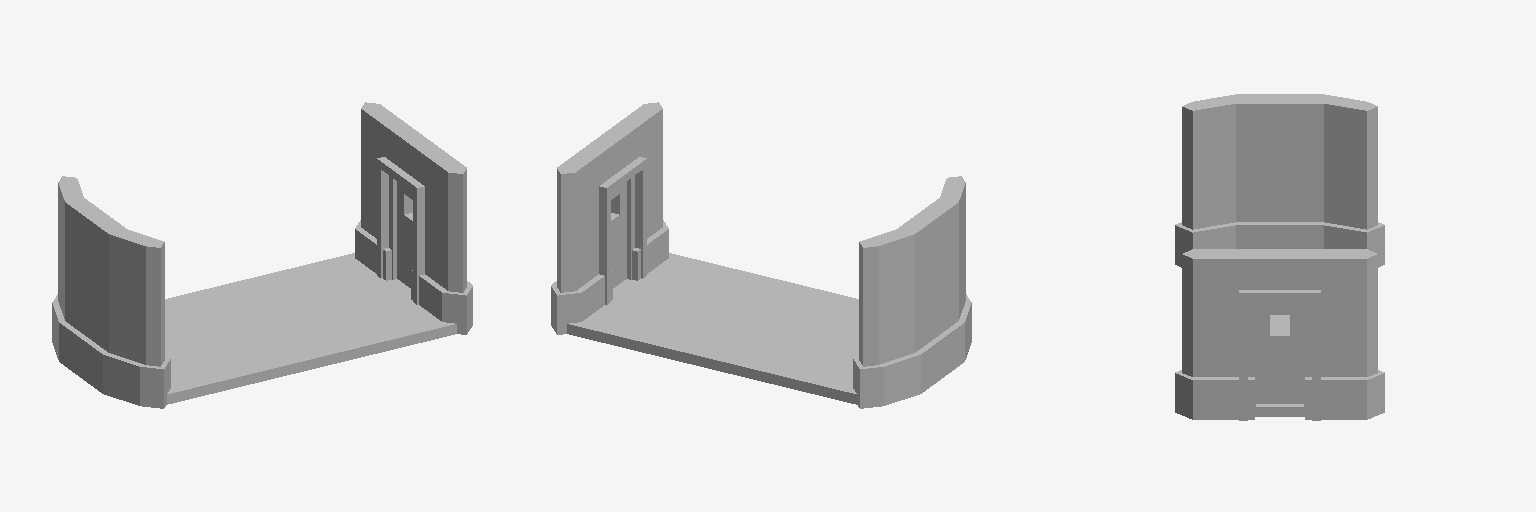
Rendered from hallway_short_07.obj.
3 views of the same model, side by side, from view 1: azimuth 30°, elevation 25°; view 2: azimuth 150°, elevation 25°; view 3: azimuth 270°, elevation 25° (orthographic).
Visible parts, largest first — view 1: floor_05_105, wall_03_101, door_02_107; view 2: floor_05_105, wall_03_101, door_02_107; view 3: door_02_107, wall_03_101, floor_05_105.
Boxes of the visible parts, box(x1,y1,x2,y2) form: floor_05_105: box(165, 253, 456, 404); wall_03_101: box(52, 176, 170, 408); door_02_107: box(355, 102, 472, 334); floor_05_105: box(567, 253, 858, 404); wall_03_101: box(853, 176, 971, 408); door_02_107: box(551, 102, 668, 334); door_02_107: box(1175, 249, 1384, 420); wall_03_101: box(1175, 94, 1384, 267); floor_05_105: box(1256, 315, 1303, 408).
Bounding box in the file's own units: 2.31 × 1 × 1.21.